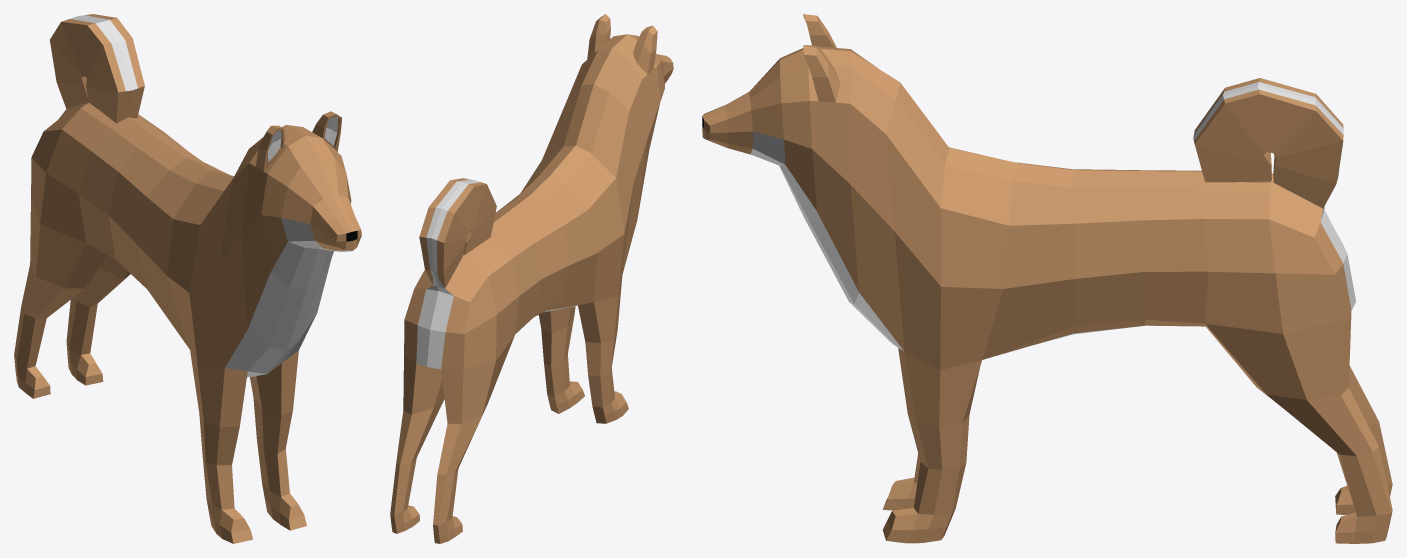
File: Dog.glb
The picture shows the model from 3 angles, left to right: view 1: azimuth 30°, elevation 25°; view 2: azimuth 150°, elevation 25°; view 3: azimuth 270°, elevation 25°; orthographic projection. The views are drawn at different scales.
Visible parts, largest first — view 1: 19dogFinal; view 2: 19dogFinal; view 3: 19dogFinal.
Part boxes in pixels (x1,y1,x2,y2): 19dogFinal: [14, 14, 361, 543]; 19dogFinal: [390, 14, 673, 543]; 19dogFinal: [702, 14, 1392, 543].
Size of the model in its own units: 0.2577 by 0.9795 by 1.24.
1 material, 1 textured.
